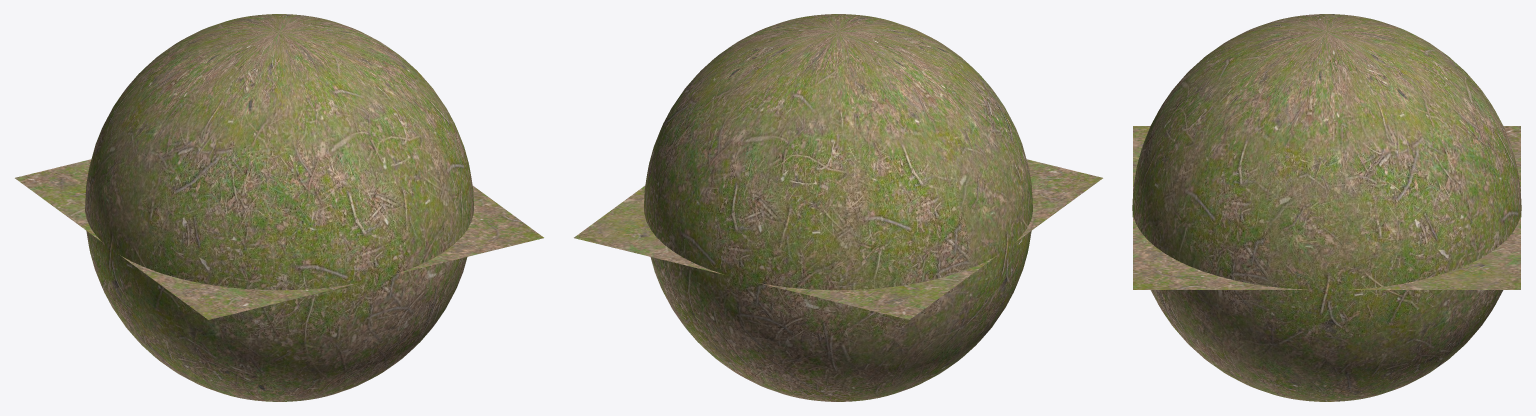
The model's file is forrest_ground.glb.
The picture shows the model from 3 angles, left to right: view 1: azimuth 30°, elevation 25°; view 2: azimuth 150°, elevation 25°; view 3: azimuth 270°, elevation 25°; orthographic projection.
Parts seen in each view (by area): view 1: Sphere, Plane; view 2: Sphere, Plane; view 3: Sphere, Plane.
Part boxes in pixels (x1,y1,x2,y2): Sphere: [85, 14, 473, 401]; Plane: [15, 159, 543, 319]; Sphere: [644, 14, 1032, 401]; Plane: [574, 159, 1102, 319]; Sphere: [1132, 14, 1521, 401]; Plane: [1133, 126, 1520, 289].
Bounding box in the file's own units: 2.01 × 2 × 2.01.
1 material, 1 textured.
